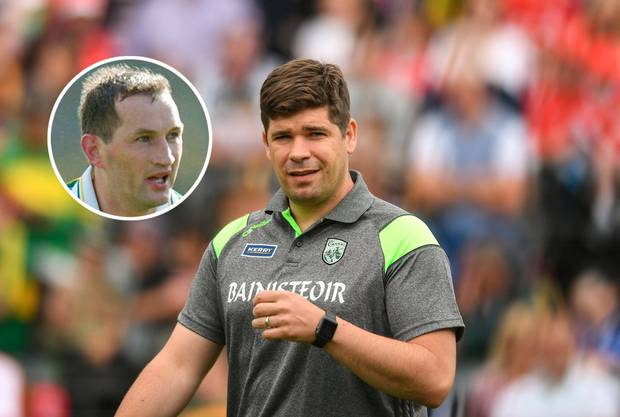player: (209, 52, 452, 411)
